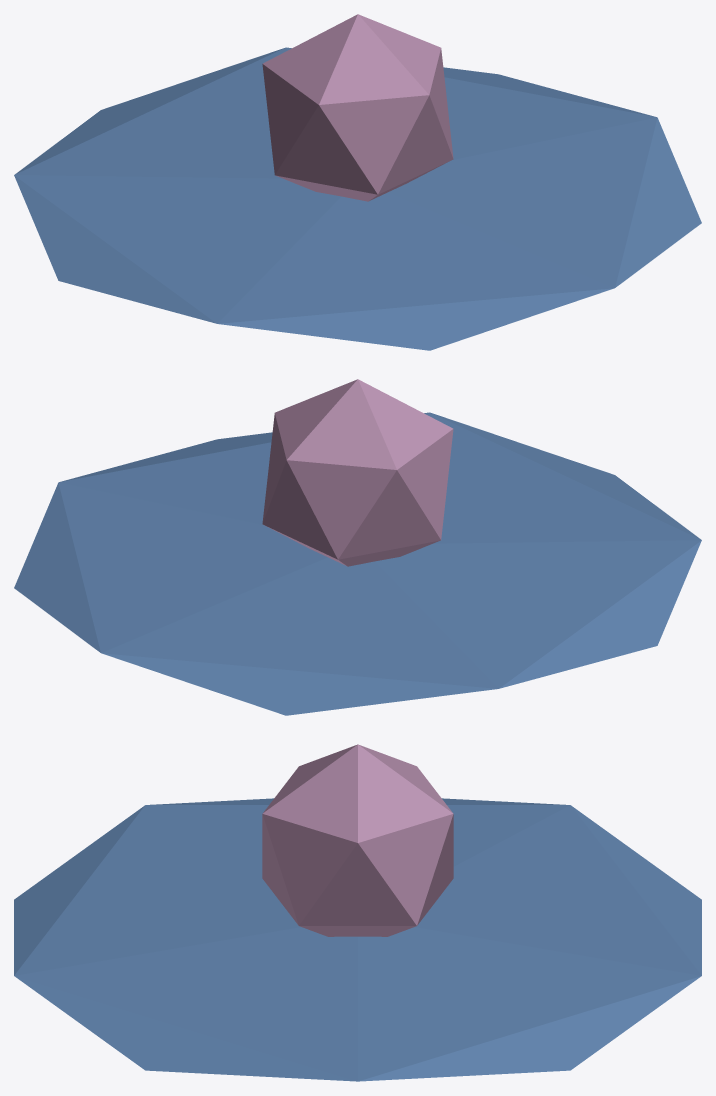
File: Lily Of The Nord.fbx
3 renders of one model, top to bottom at view 1: azimuth 30°, elevation 25°; view 2: azimuth 150°, elevation 25°; view 3: azimuth 270°, elevation 25°, orthographic. The views are drawn at different scales.
Parts seen in each view (by area): view 1: Lily Of The Nord, Lily Of The Nord Flower; view 2: Lily Of The Nord, Lily Of The Nord Flower; view 3: Lily Of The Nord, Lily Of The Nord Flower.
Boxes of the visible parts, x1,y1,x2,y2 form: Lily Of The Nord: (14,47,701,350); Lily Of The Nord Flower: (262,14,453,201); Lily Of The Nord: (14,412,701,715); Lily Of The Nord Flower: (262,379,453,566); Lily Of The Nord: (14,798,701,1081); Lily Of The Nord Flower: (262,744,453,936).
Bounding box in the file's own units: 161 × 52.5 × 153.
